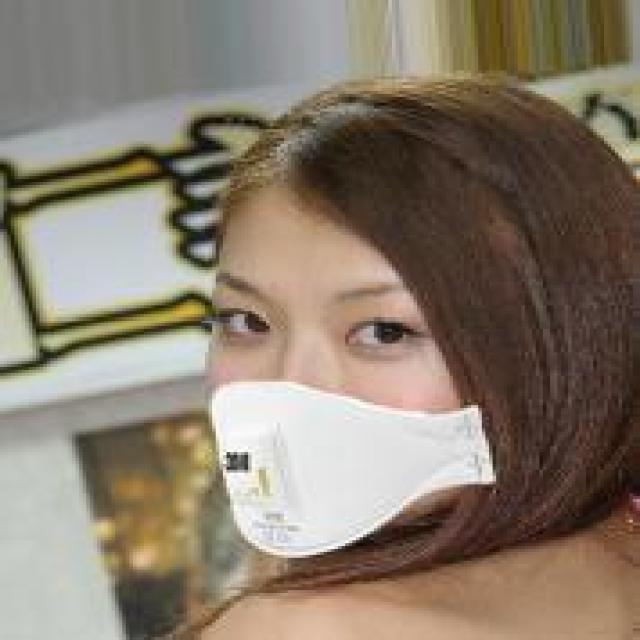mask: (180, 88, 626, 564)
